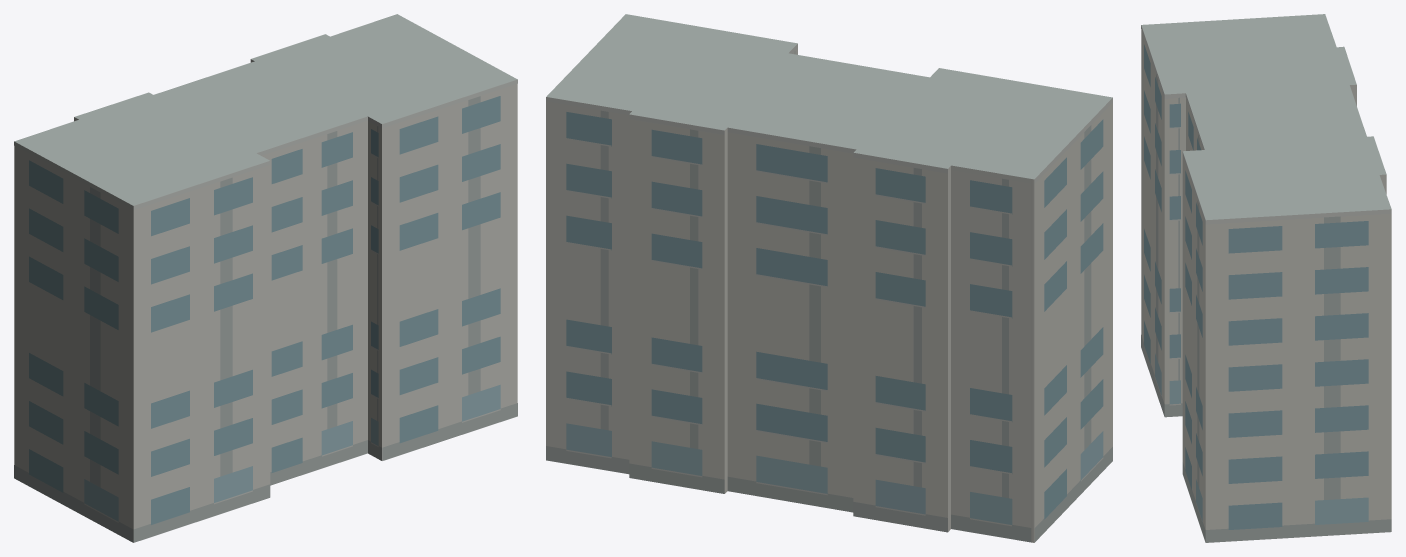
The model's file is survey-upis-32721241.glb.
The picture shows the model from 3 angles, left to right: view 1: azimuth 30°, elevation 25°; view 2: azimuth 150°, elevation 25°; view 3: azimuth 270°, elevation 25°; orthographic projection. The views are drawn at different scales.
Visible parts, largest first — view 1: survey-upis-32721241.tmp; view 2: survey-upis-32721241.tmp; view 3: survey-upis-32721241.tmp.
Boxes of the visible parts, x1,y1,x2,y2 form: survey-upis-32721241.tmp: (14,14,517,542); survey-upis-32721241.tmp: (546,14,1112,542); survey-upis-32721241.tmp: (1141,14,1391,542).
Bounding box in the file's own units: 25.91 × 18.9 × 13.31.
